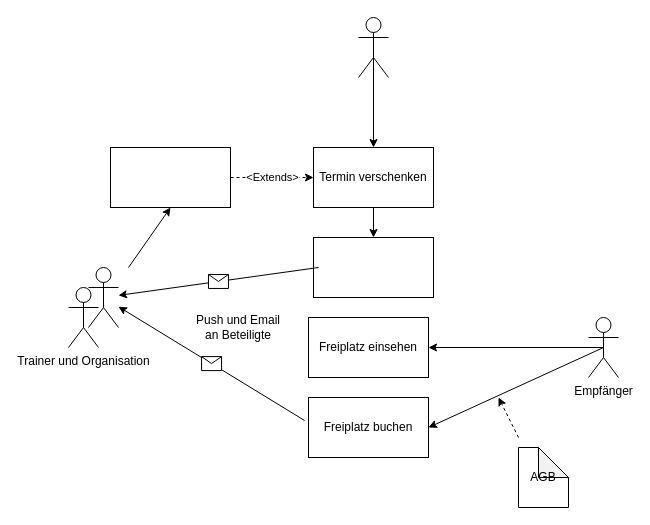
The diagram is 650 pixels wide and 525 high, and some of its shapes have lost their labels. The centre of each missing label's shape, as x and y in pixels:
"Frei Platz in App einsehbar" goes at [373,267].
"Kurs validieren" goes at [170,177].
"Spender" goes at [373,47].
